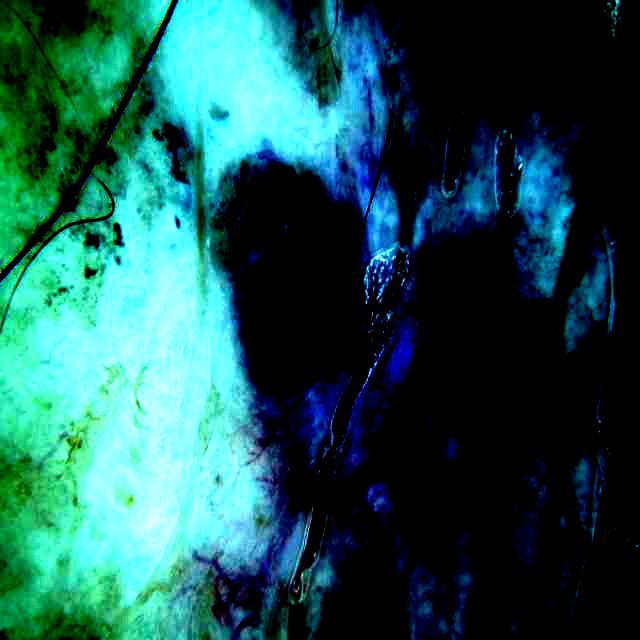BCC: (210, 151, 356, 389), (373, 239, 497, 500)
